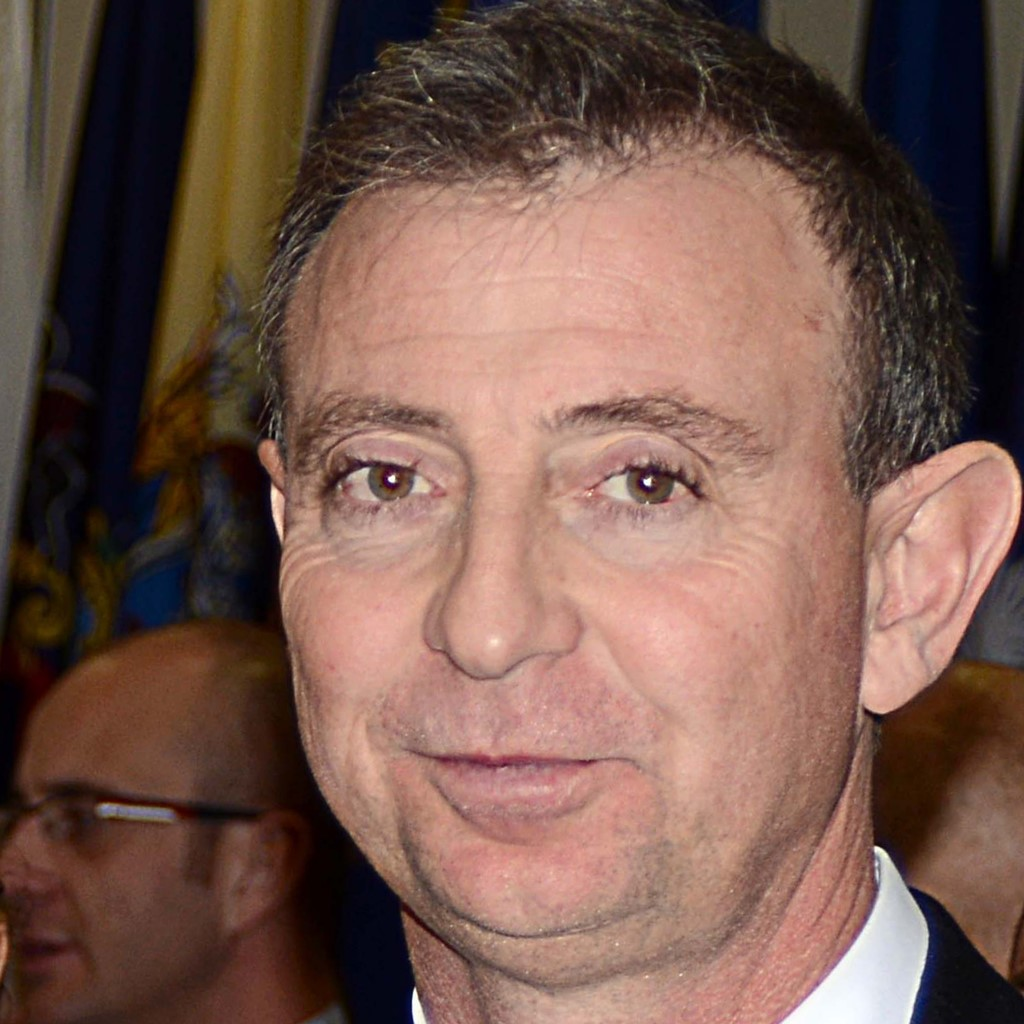sin_mascara: (266, 116, 921, 959)
